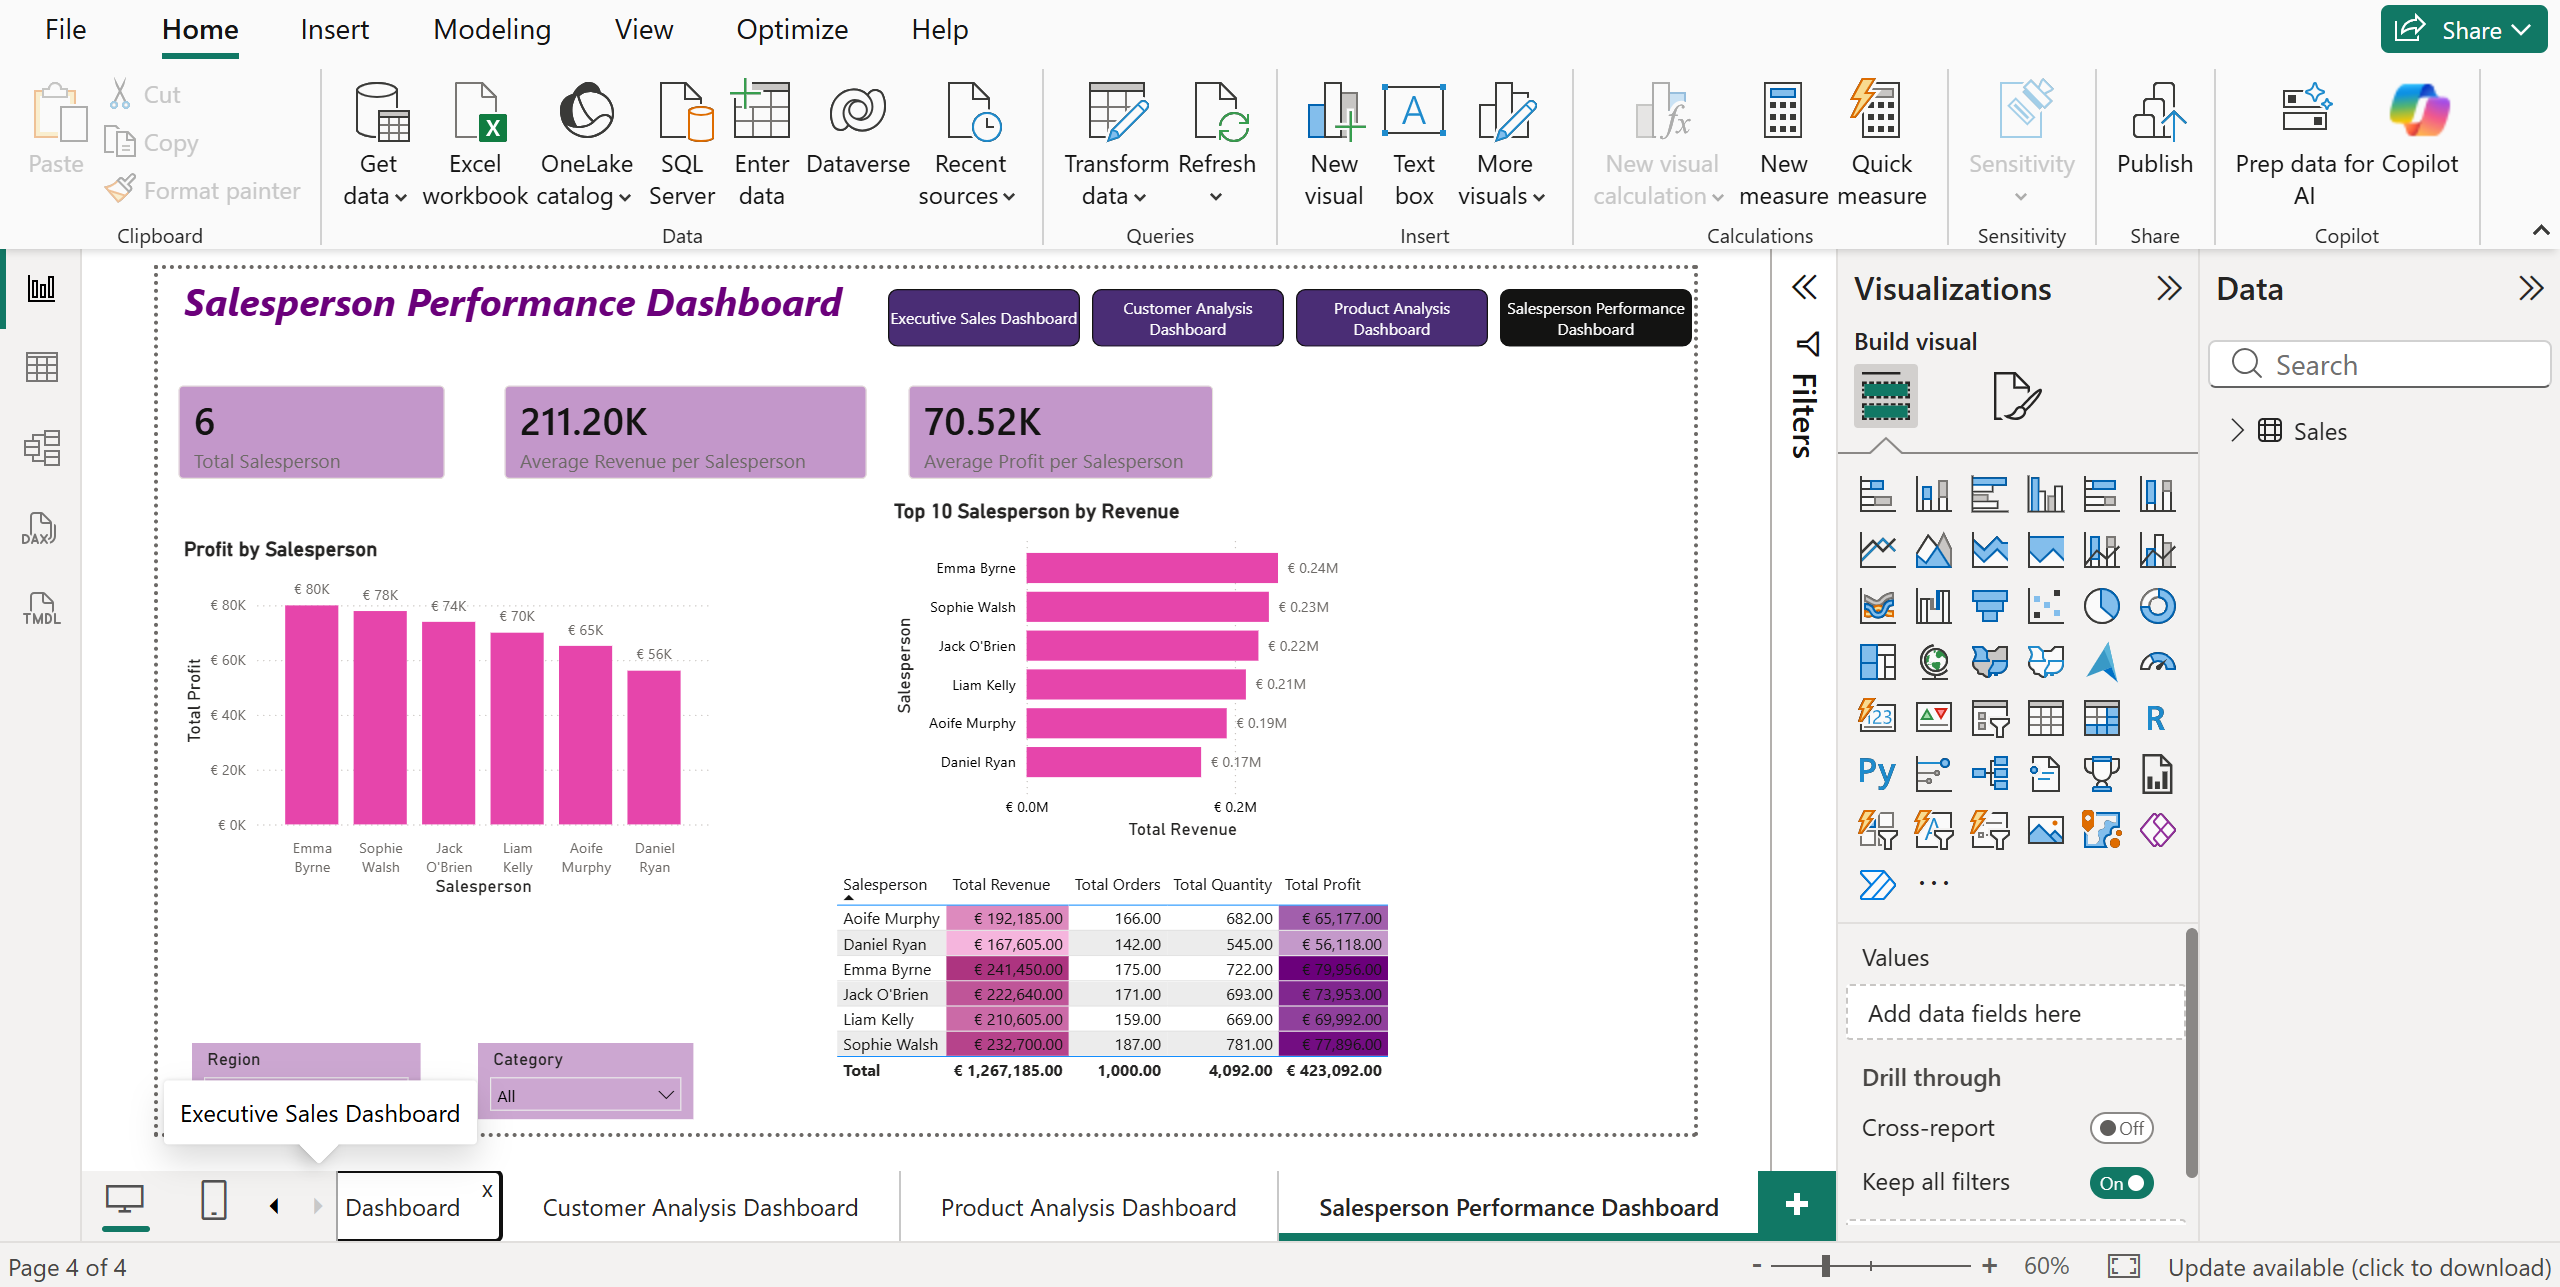

The page's visual inventory and layout, read from the dashboard file:
{"tool":"powerbi","page":{"name":"Salesperson Performance Dashboard","canvas":[1280,720],"ordinal":3},"visuals":[{"type":"cardVisual","fields":{"Data":["Sales.Total Salesperson"]},"box":[0,80,256,112],"z":0},{"type":"cardVisual","fields":{"Data":["Sales.Average Revenue per Salesperson"]},"box":[272,80,336,112],"z":1000},{"type":"cardVisual","fields":{"Data":["Sales.Average Profit per Salesperson"]},"box":[608,80,288,112],"z":2000},{"type":"textbox","box":[16,0,560,64],"z":3000},{"type":"clusteredBarChart","title":"Top 10 Salesperson by Revenue","fields":{"Category":["Sales.Salesperson"],"Y":["Sales.Total Revenue"]},"box":[608,192,400,288],"z":4000},{"type":"clusteredColumnChart","title":" Profit by Salesperson","fields":{"Category":["Sales.Salesperson"],"Y":["Sales.Total Profit"]},"box":[16,224,448,304],"z":5000},{"type":"tableEx","fields":{"Values":["Sales.Salesperson","Sales.Total Revenue","Sales.Total Orders","Sales.Total Quantity","Sales.Total Profit"]},"box":[560,496,512,192],"z":6000},{"type":"slicer","fields":{"Values":["Sales.Region"]},"box":[28.4,644.4,190.7,63.6],"z":7000},{"type":"slicer","fields":{"Values":["Sales.Category"]},"box":[266.8,644.4,179.6,63.6],"z":8000},{"type":"pageNavigator","box":[608,16,672,48],"z":9000}]}

Visuals, with their boxes on the page's 1280x720 design canvas (x1, y1, x2, y2). These are canvas units, not pixel positions in the 2560x1287 screenshot, which may show the page scaled, cropped or inside an application window:
cardVisual - Sales.Total Salesperson: <bbox>0, 80, 256, 192</bbox>
cardVisual - Sales.Average Revenue per Salesperson: <bbox>272, 80, 608, 192</bbox>
cardVisual - Sales.Average Profit per Salesperson: <bbox>608, 80, 896, 192</bbox>
textbox: <bbox>16, 0, 576, 64</bbox>
"Top 10 Salesperson by Revenue" clusteredBarChart: <bbox>608, 192, 1008, 480</bbox>
" Profit by Salesperson" clusteredColumnChart: <bbox>16, 224, 464, 528</bbox>
tableEx - Sales.Salesperson x Sales.Total Revenue: <bbox>560, 496, 1072, 688</bbox>
slicer - Sales.Region: <bbox>28, 644, 219, 708</bbox>
slicer - Sales.Category: <bbox>267, 644, 446, 708</bbox>
pageNavigator: <bbox>608, 16, 1280, 64</bbox>
